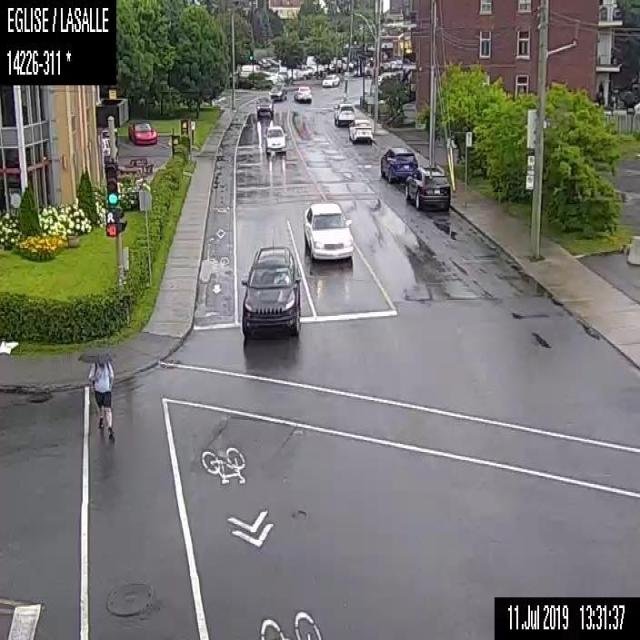pedestrian: (76, 343, 118, 440)
vehicle: (238, 241, 302, 335), (302, 200, 354, 264), (403, 166, 451, 212), (378, 144, 418, 182), (128, 119, 156, 146), (262, 124, 286, 152), (347, 118, 372, 142), (332, 101, 355, 124), (255, 94, 272, 116), (268, 80, 286, 100), (293, 83, 312, 101), (322, 72, 340, 85), (295, 67, 312, 78)
